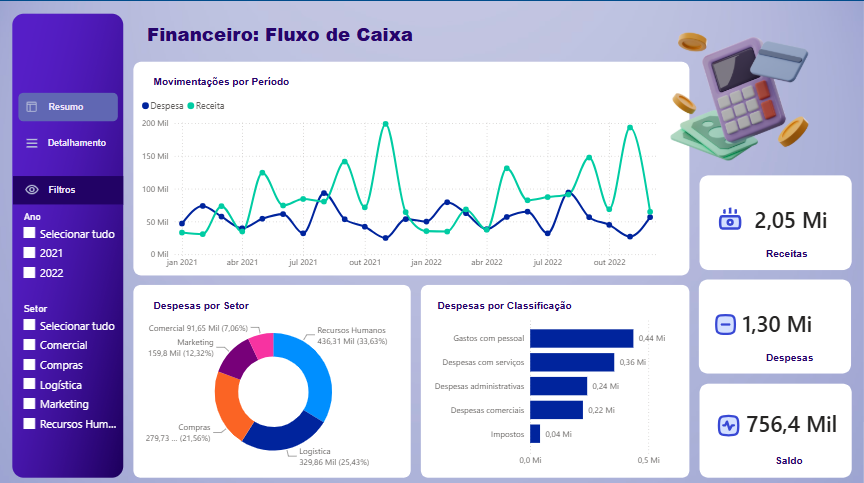

This screenshot's page, from the dashboard's own definition file:
{"tool":"powerbi","page":{"name":"Página 1","canvas":[1280,720],"ordinal":0},"visuals":[{"type":"cardVisual","fields":{"Data":["Medidas.Receita"]},"box":[1088.5,238.5,176.4,166.3],"z":0},{"type":"cardVisual","fields":{"Data":["Medidas.Despesa"]},"box":[1069.9,404.6,210.2,138.2],"z":1000},{"type":"cardVisual","fields":{"Data":["Medidas.Saldo"]},"box":[1076.7,554.3,203.3,137.7],"z":2000},{"type":"lineChart","fields":{"Category":["Movimentações.Data.Variation.Hierarquia de datas.Ano","Movimentações.Data.Variation.Hierarquia de datas.Trimestre","Movimentações.Data.Variation.Hierarquia de datas.Mês","Movimentações.Data.Variation.Hierarquia de datas.Dia"],"Y":["Medidas.Despesa","Medidas.Receita"]},"box":[204.9,134.4,786.1,270.4],"z":3000},{"type":"slicer","fields":{"Values":["Movimentações.Data.Variation.Hierarquia de datas.Ano"]},"box":[23,306.7,159.8,135.4],"z":4000},{"type":"slicer","fields":{"Values":["Centro de custo.Setor"]},"box":[23,442.1,159.8,220.3],"z":5000},{"type":"donutChart","fields":{"Category":["Centro de custo.Setor"],"Y":["Medidas.Despesa"]},"box":[204.5,457.9,403.2,239],"z":6000},{"type":"clusteredBarChart","fields":{"Category":["Movimentações.Classificação"],"Y":["Medidas.Despesa"]},"box":[627.8,457.9,388.8,239],"z":7000},{"type":"actionButton","box":[28.8,193,148.3,46.1],"z":8000}]}

Visuals, with their boxes on the page's 1280x720 design canvas (x1, y1, x2, y2). These are canvas units, not pixel positions in the 864x483 screenshot, which may show the page scaled, cropped or inside an application window:
cardVisual - Medidas.Receita: 1088, 238, 1265, 405
cardVisual - Medidas.Despesa: 1070, 405, 1280, 543
cardVisual - Medidas.Saldo: 1077, 554, 1280, 692
lineChart - Movimentações.Data.Variation.Hierarquia de datas.Ano x Movimentações.Data.Variation.Hierarquia de datas.Trimestre: 205, 134, 991, 405
slicer - Movimentações.Data.Variation.Hierarquia de datas.Ano: 23, 307, 183, 442
slicer - Centro de custo.Setor: 23, 442, 183, 662
donutChart - Centro de custo.Setor x Medidas.Despesa: 204, 458, 608, 697
clusteredBarChart - Movimentações.Classificação x Medidas.Despesa: 628, 458, 1017, 697
actionButton: 29, 193, 177, 239
